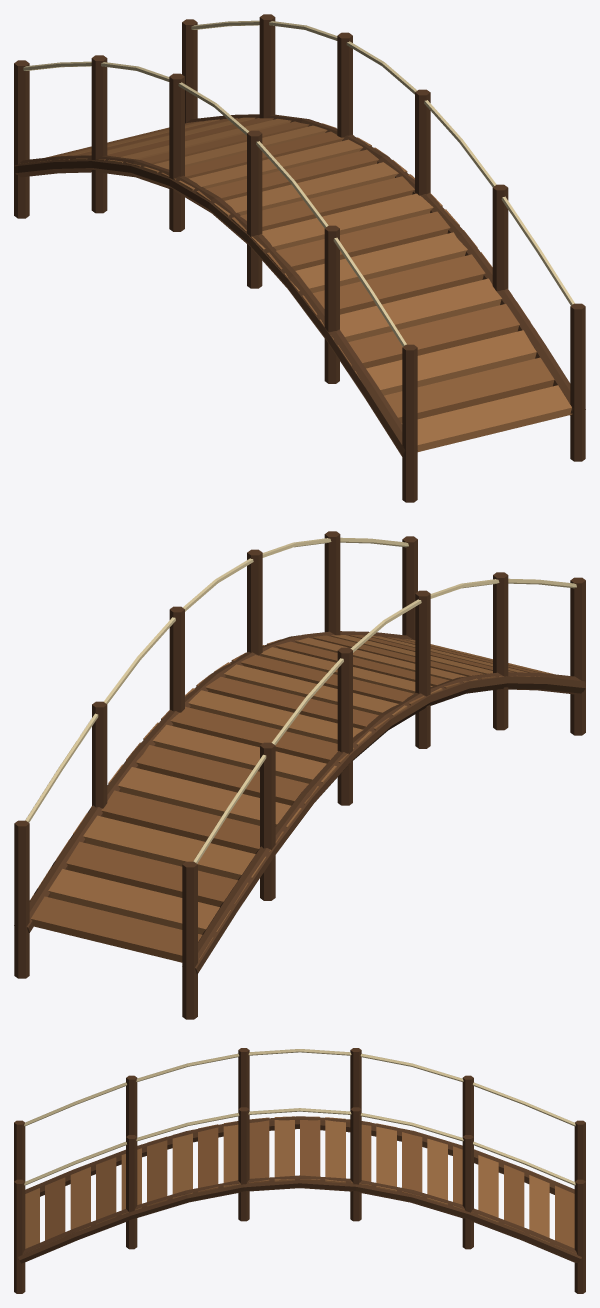
Rendered from Bridge_Wood.fbx.
The picture shows the model from 3 angles, top to bottom: view 1: azimuth 30°, elevation 25°; view 2: azimuth 150°, elevation 25°; view 3: azimuth 270°, elevation 25°; orthographic projection. The views are drawn at different scales.
Parts seen in each view (by area): view 1: Bridge_Wood.001; view 2: Bridge_Wood.001; view 3: Bridge_Wood.001.
Boxes of the visible parts, left/top/right/bottom form: Bridge_Wood.001: left=14, top=14, right=585, bottom=502; Bridge_Wood.001: left=14, top=531, right=585, bottom=1019; Bridge_Wood.001: left=14, top=1048, right=585, bottom=1293.
Size of the model in its own units: 1.64 by 2.17 by 6.12.
